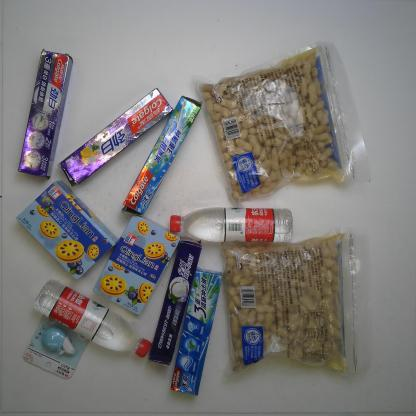Dessert: (15, 179, 119, 282), (92, 214, 182, 315)
Dried Food: (190, 38, 374, 207), (219, 224, 370, 380)
Drink: (32, 279, 152, 358), (169, 207, 294, 244)
Personal Hygiene: (57, 85, 175, 189), (120, 94, 203, 218), (168, 266, 226, 397), (146, 236, 204, 366), (16, 49, 73, 180)
Stationery: (23, 314, 91, 379)
